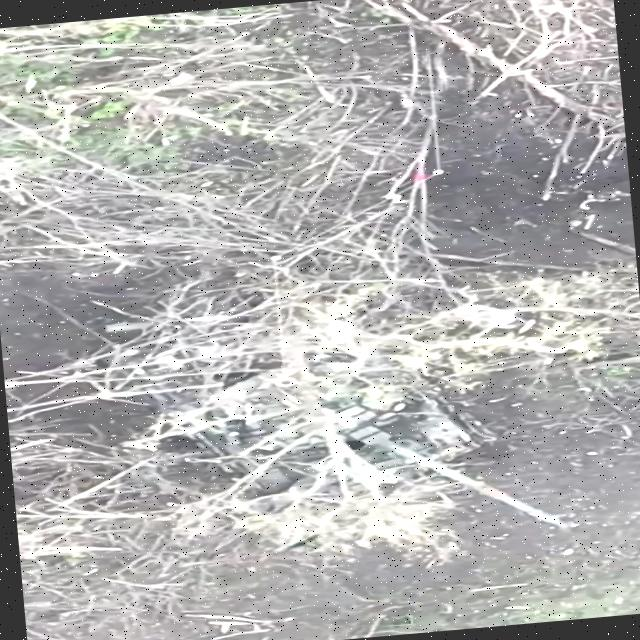MBT: (93, 291, 577, 569)
